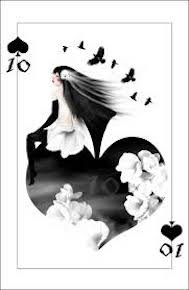TenOfSpades: (2, 9, 189, 283)
